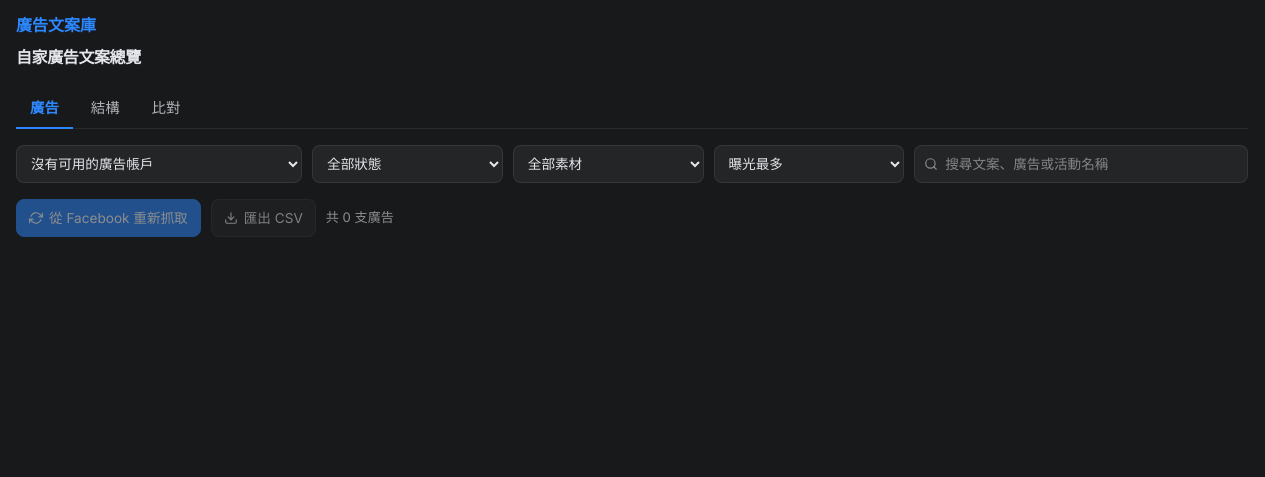
Test: AdLibrary › flags placeholder nodes whose settings were not fetched yet
The image size is (1265, 477).
What coordinates should you click on to do the following:
click the tab "結構"
I would click on:
 (105, 109)
Its box is [77, 89, 134, 129].
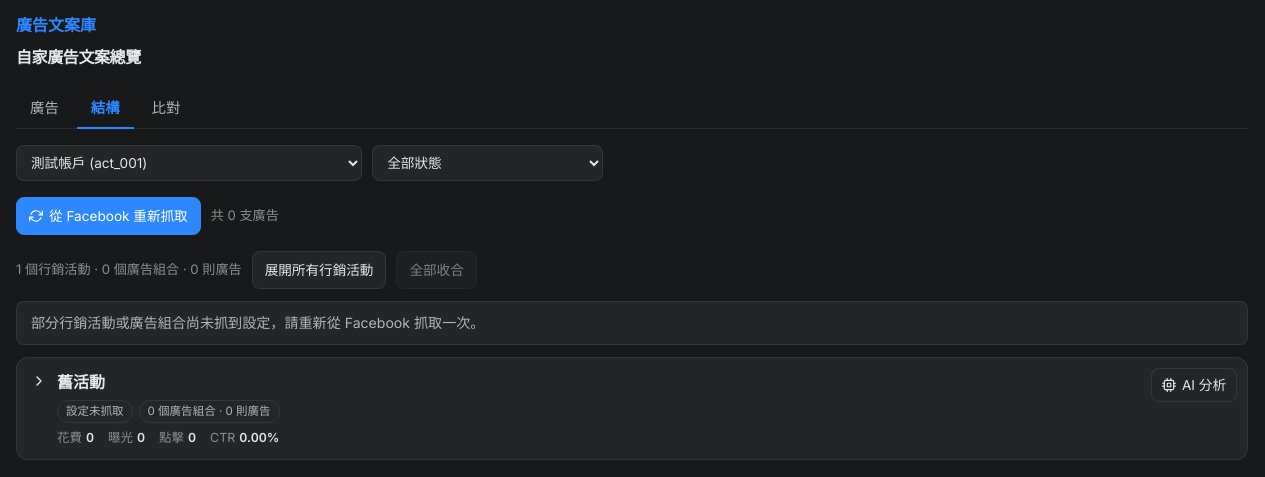
Result: the text "設定未抓取" is shown at [57, 400, 133, 423]
Result: the text "部分行銷活動或廣告組合尚未抓到設定，請重新從 Facebook 抓取一次。" is shown at [16, 301, 1248, 344]
